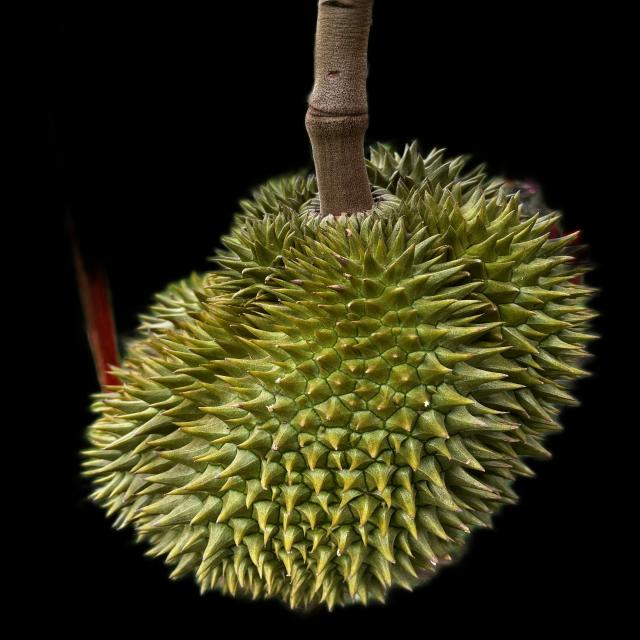immature: (68, 148, 598, 610)
